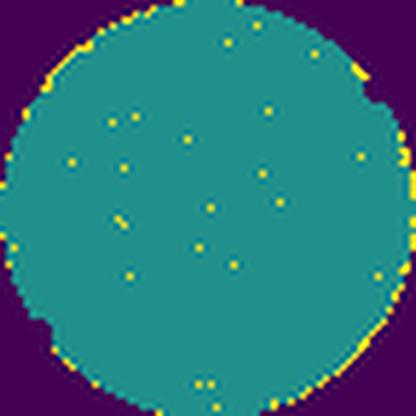Edge-Ring: (39, 0, 415, 416)
